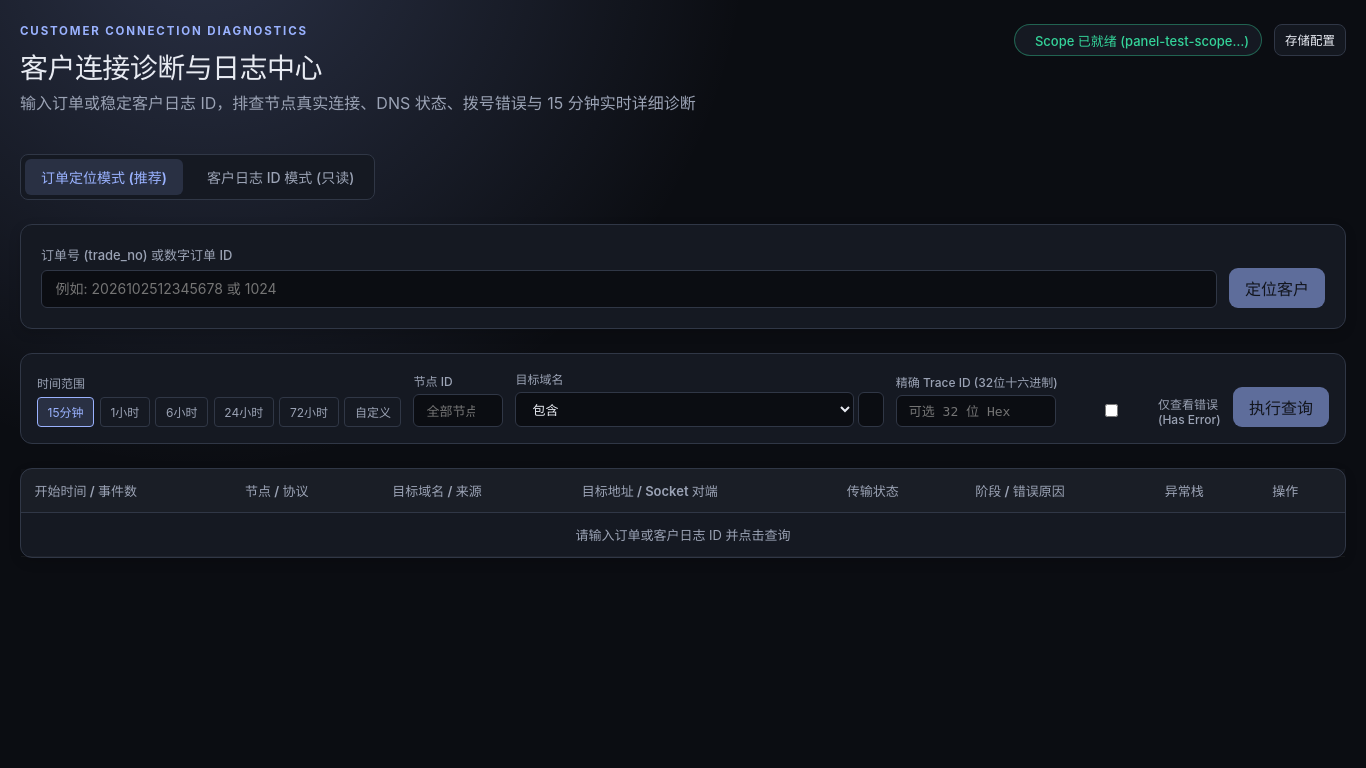
CustomerDiagnosticsPage › performs order lookup and renders sanitized identity card without secrets or tokens
In the field with placeholder "例如: 2026102512345678 或 1024": (629, 289) x1=41 y1=270 x2=1217 y2=308, type "202610250001"
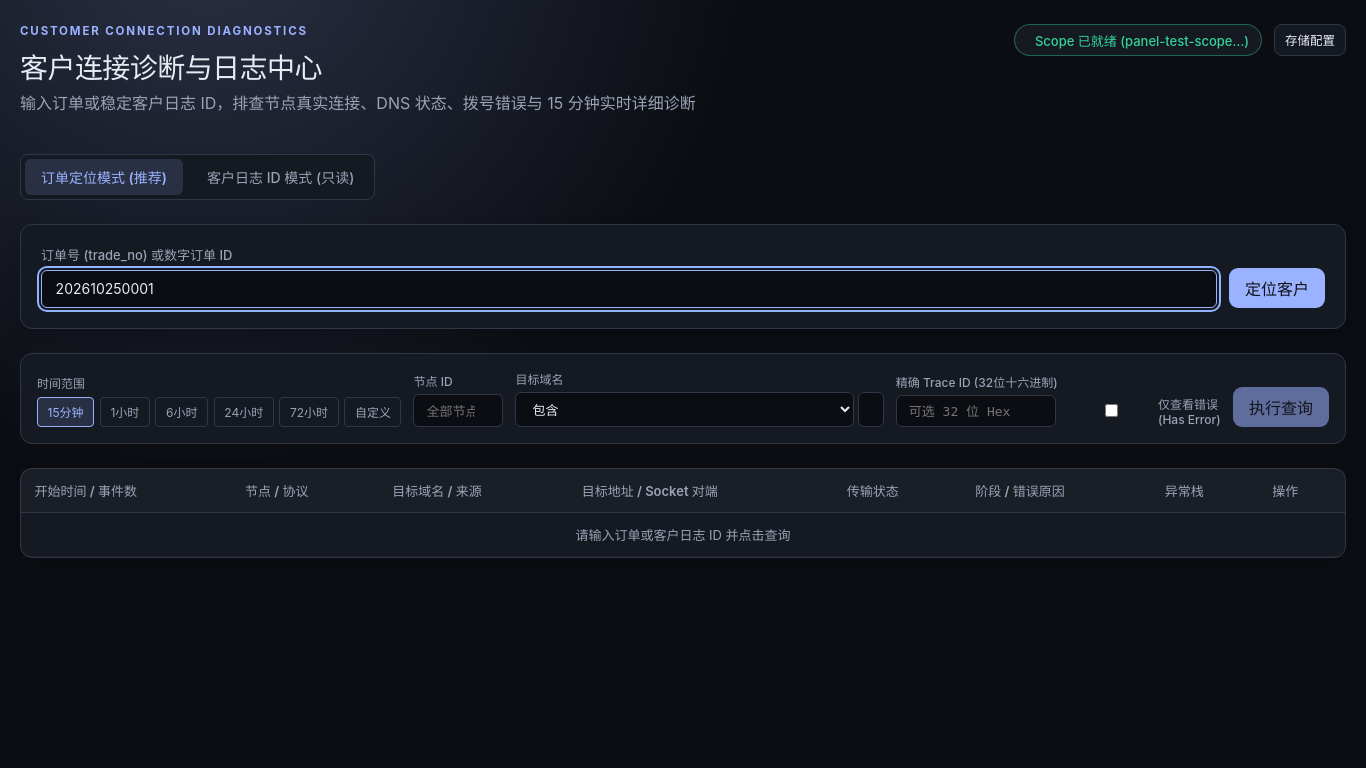
Click the button "定位客户": (1277, 288) x1=1229 y1=268 x2=1325 y2=308
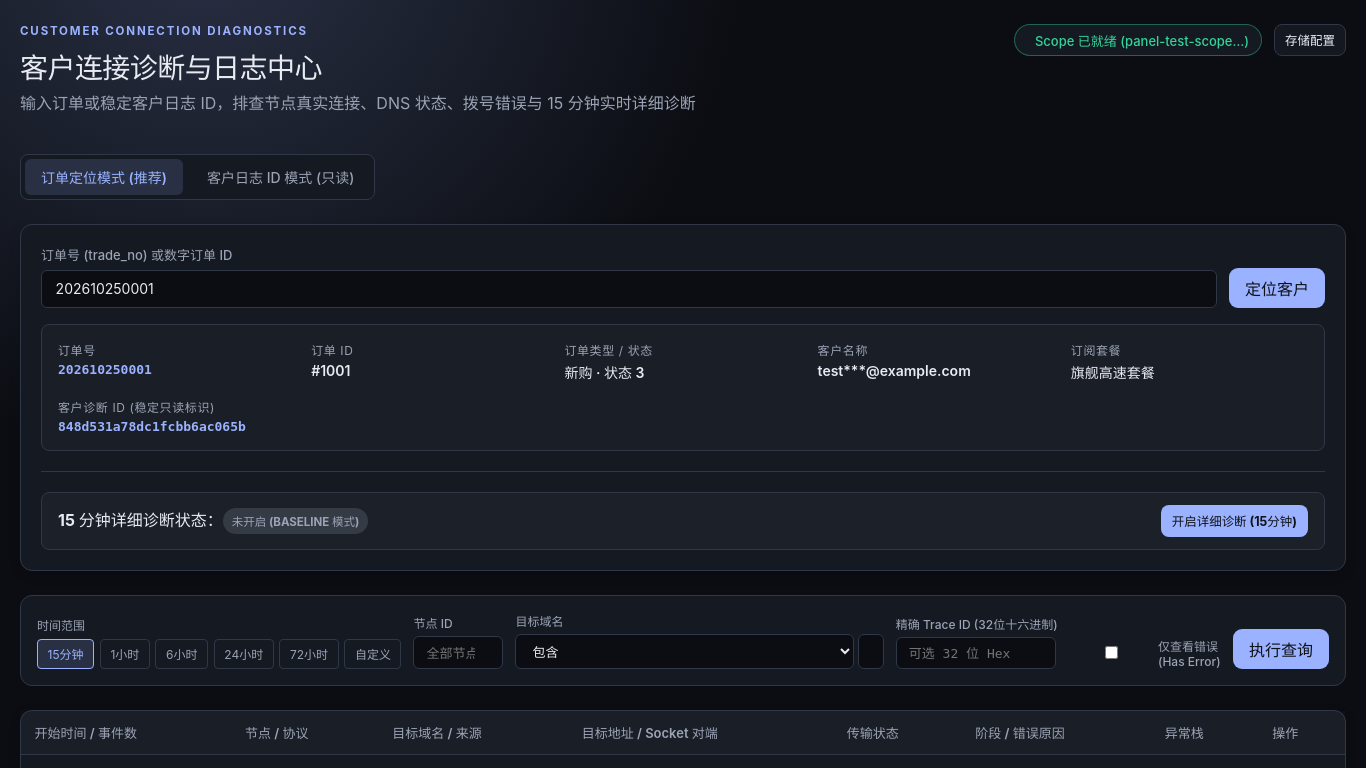
Now the element named "客户诊断身份卡" is shown, box x1=41 y1=324 x2=1325 y2=451
Now the text "202610250001" is shown, box x1=58 y1=362 x2=152 y2=377
Now the text "#1001" is shown, box x1=311 y1=362 x2=350 y2=379
